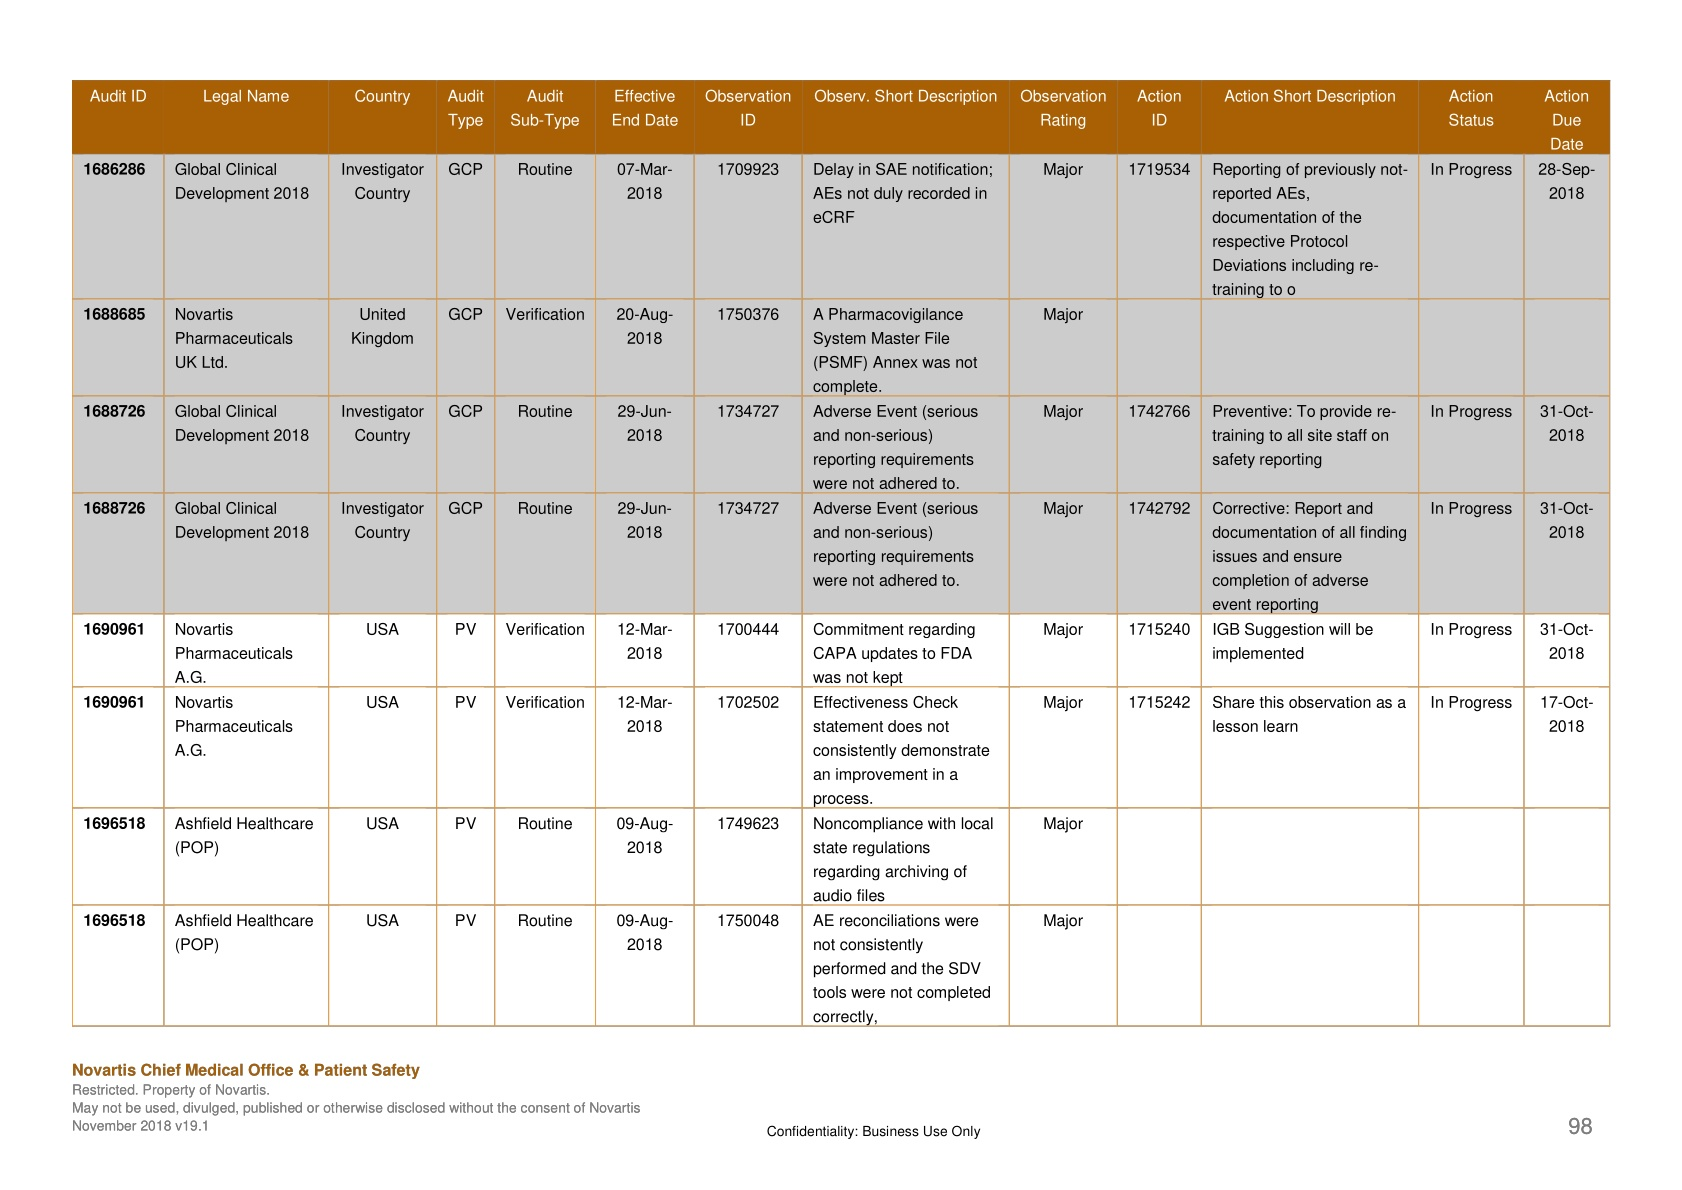full_lined: (72, 79, 1611, 1026)
